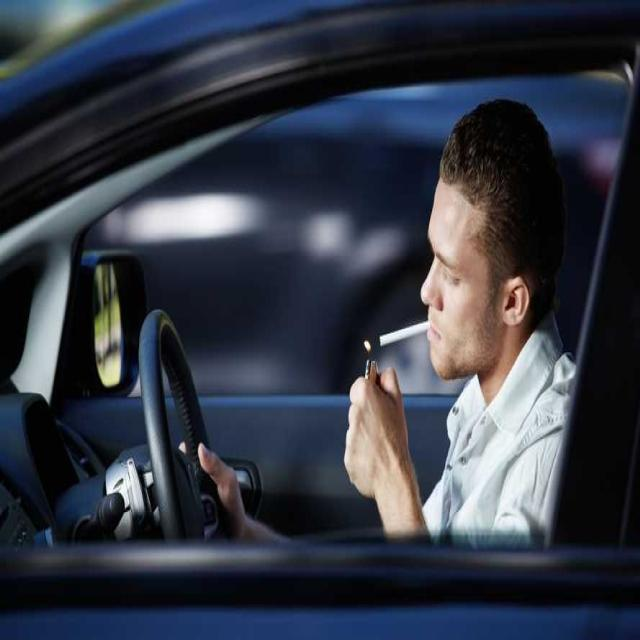Smooking: (368, 319, 434, 364)
